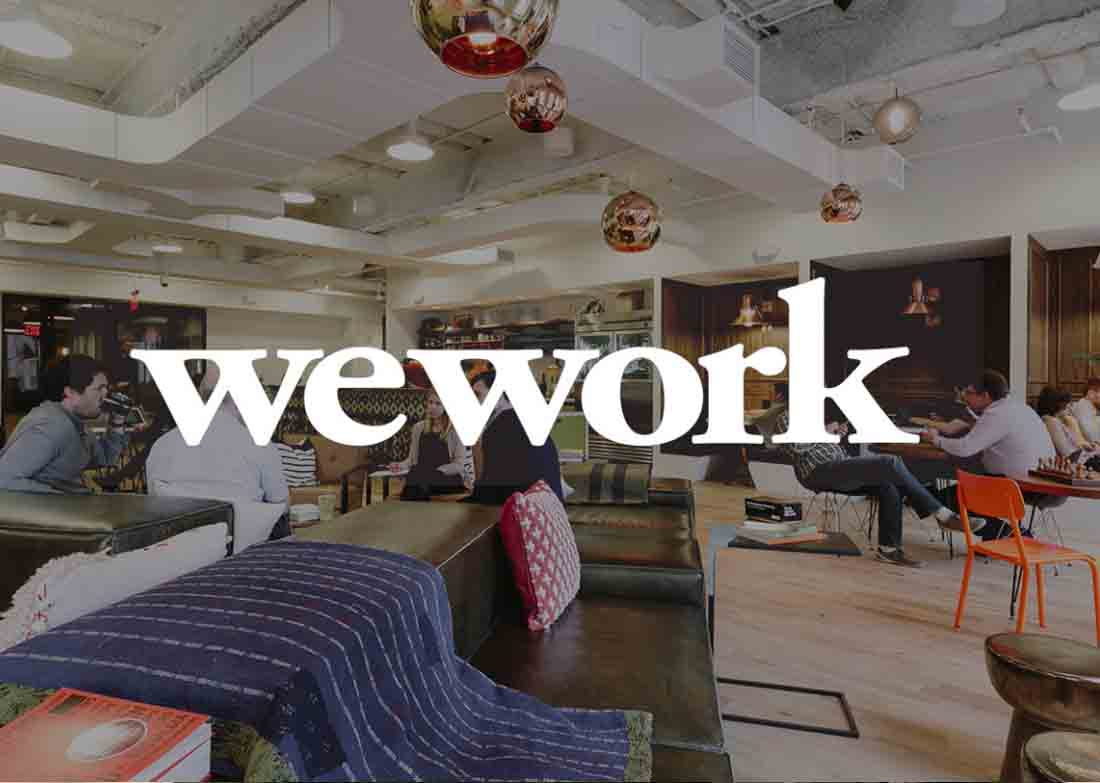wework: (124, 270, 925, 453)
